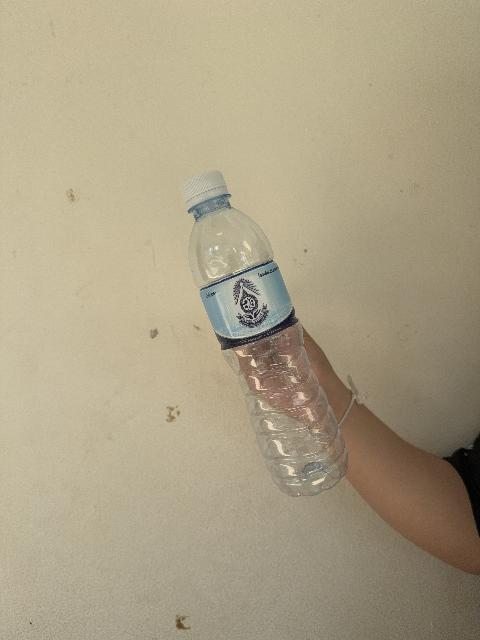bottle: (181, 171, 347, 496)
